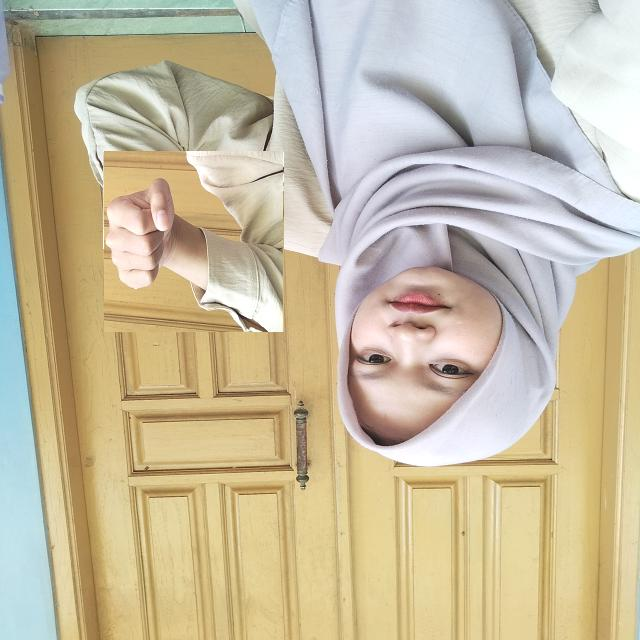baik: (103, 151, 284, 332)
